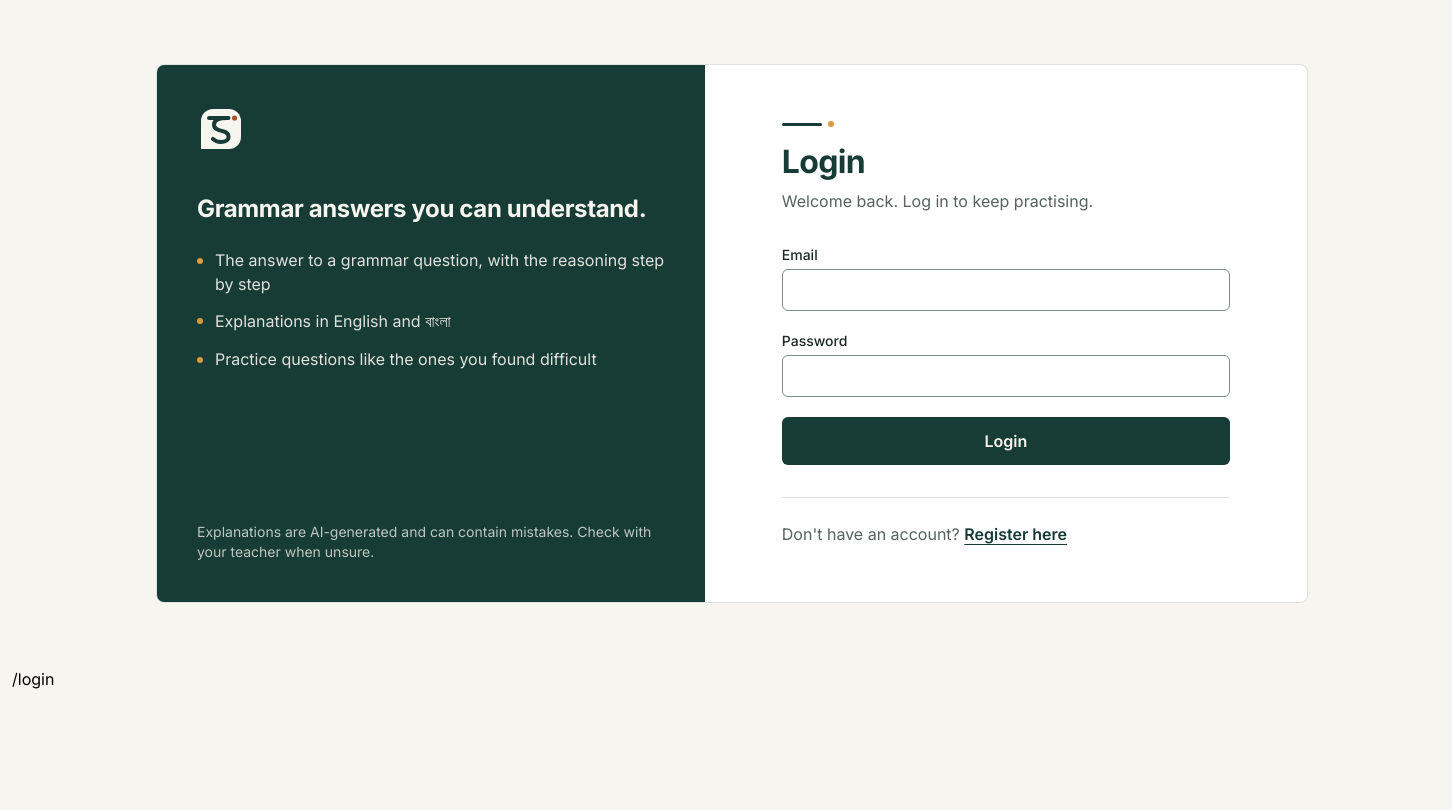
Test: LoginForm › stores the session and goes to analyze after a successful login
The width and height of the screenshot is (1452, 810).
Type "student@example.com" into the field labelled "Email" at (1006, 290), box [782,269,1230,311]
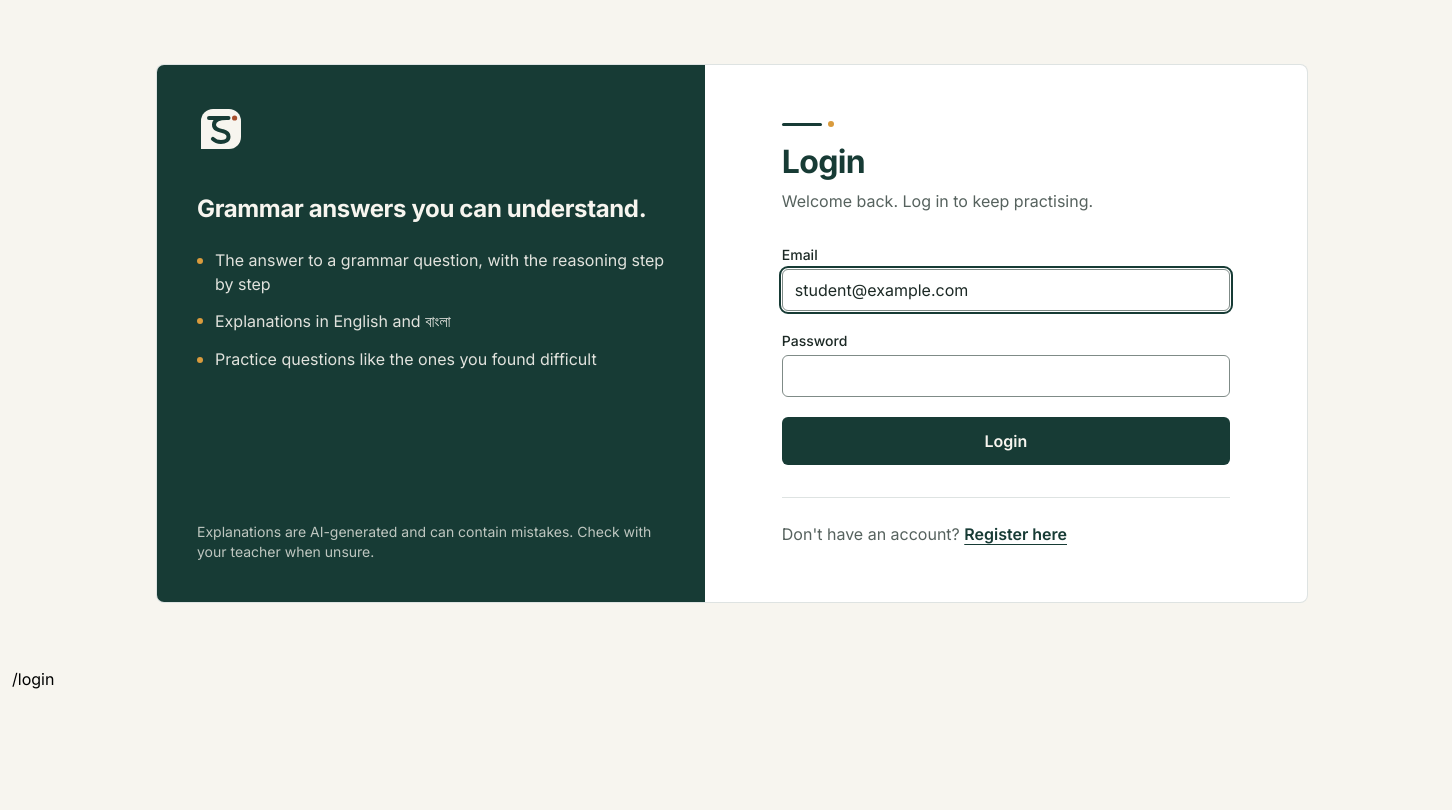
Type "secret123" into the password field labelled "Password" at (1006, 376), box [782,355,1230,397]
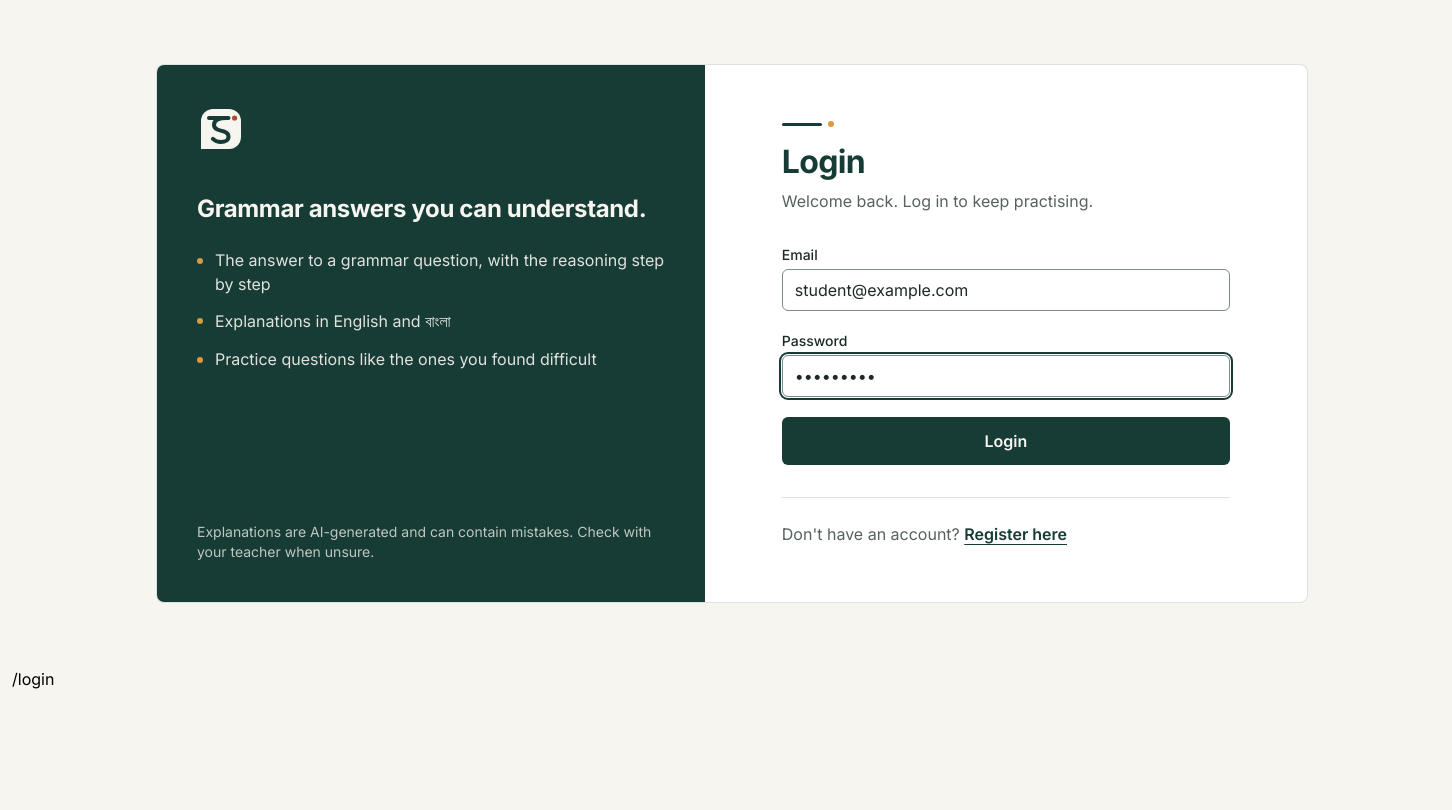
Click the button "Login" at (1006, 441), box [782,417,1230,465]
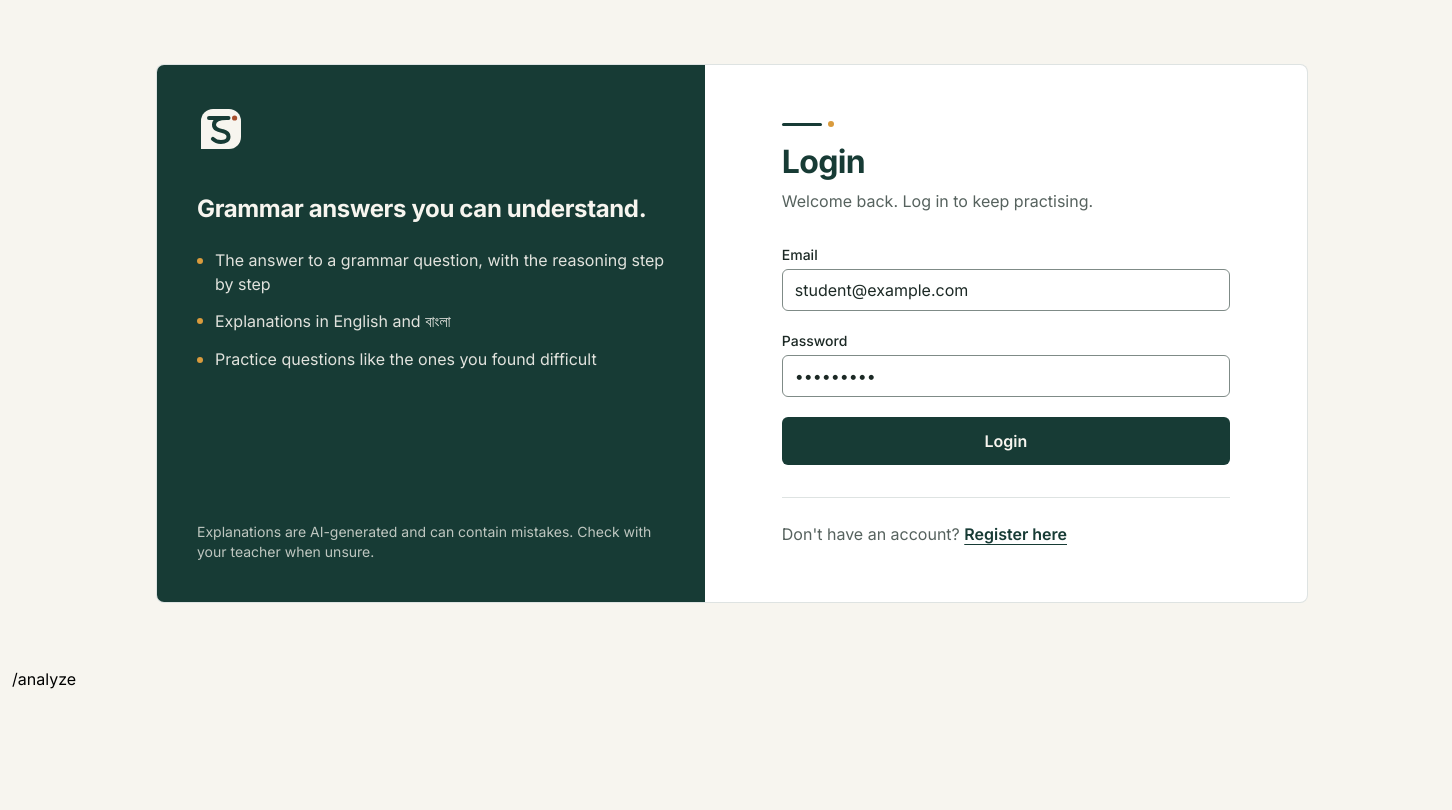
Expected: the text with test id "location" reads "/analyze", [12,669,76,689]
